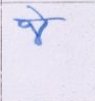e_matra: (27, 5, 46, 18)
